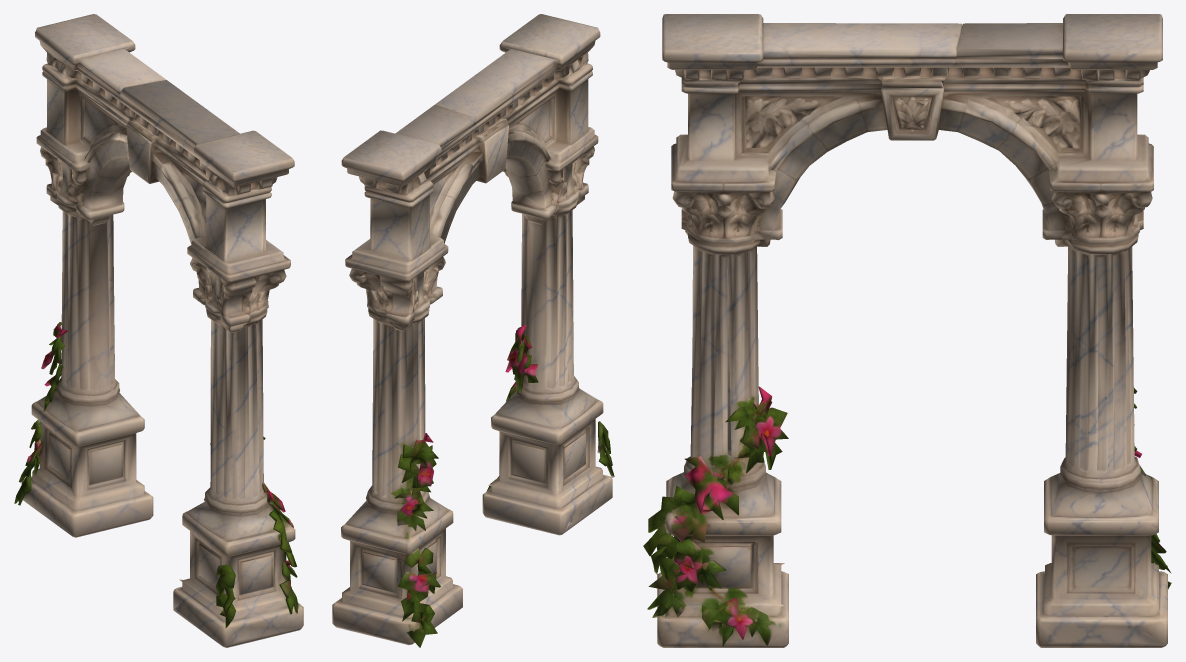
Rendered from SM_Env_ArcadeBay.fbx.
3 renders of one model, left to right at view 1: azimuth 30°, elevation 25°; view 2: azimuth 150°, elevation 25°; view 3: azimuth 270°, elevation 25°, orthographic. The views are drawn at different scales.
Parts seen in each view (by area): view 1: SM_Env_ArcadeBay; view 2: SM_Env_ArcadeBay; view 3: SM_Env_ArcadeBay.
Boxes of the visible parts, x1=… form: SM_Env_ArcadeBay: x1=14, y1=14, x2=303, y2=647; SM_Env_ArcadeBay: x1=332, y1=14, x2=614, y2=647; SM_Env_ArcadeBay: x1=643, y1=14, x2=1171, y2=647.
Bounding box in the file's own units: 30.78 × 105 × 130.
Materials: 1 (1 with a texture image).
